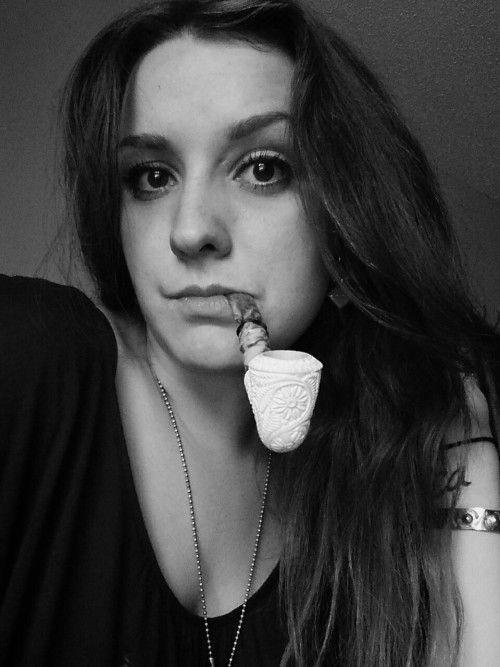trubka: (228, 293, 322, 451)
